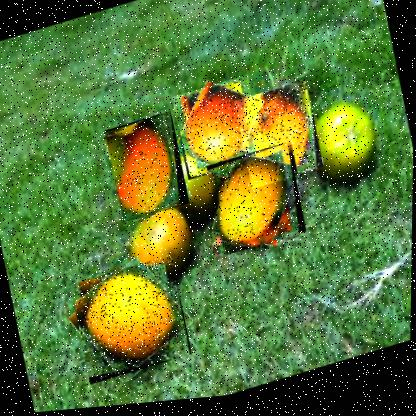orange: (67, 255, 193, 387), (204, 145, 307, 261), (169, 77, 264, 185), (101, 112, 190, 227), (232, 83, 323, 194)
